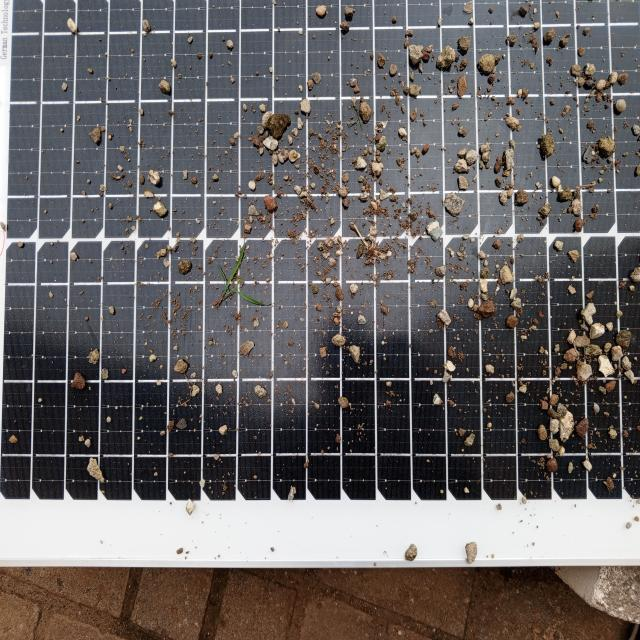Surface Contaminant: (12, 6, 639, 515)
